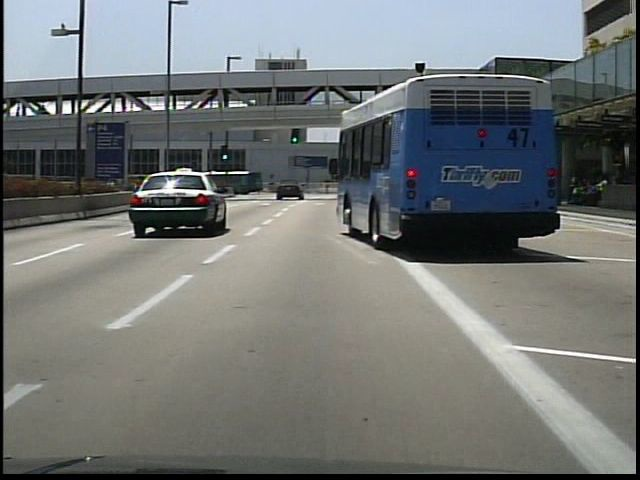person: (566, 170, 580, 205)
